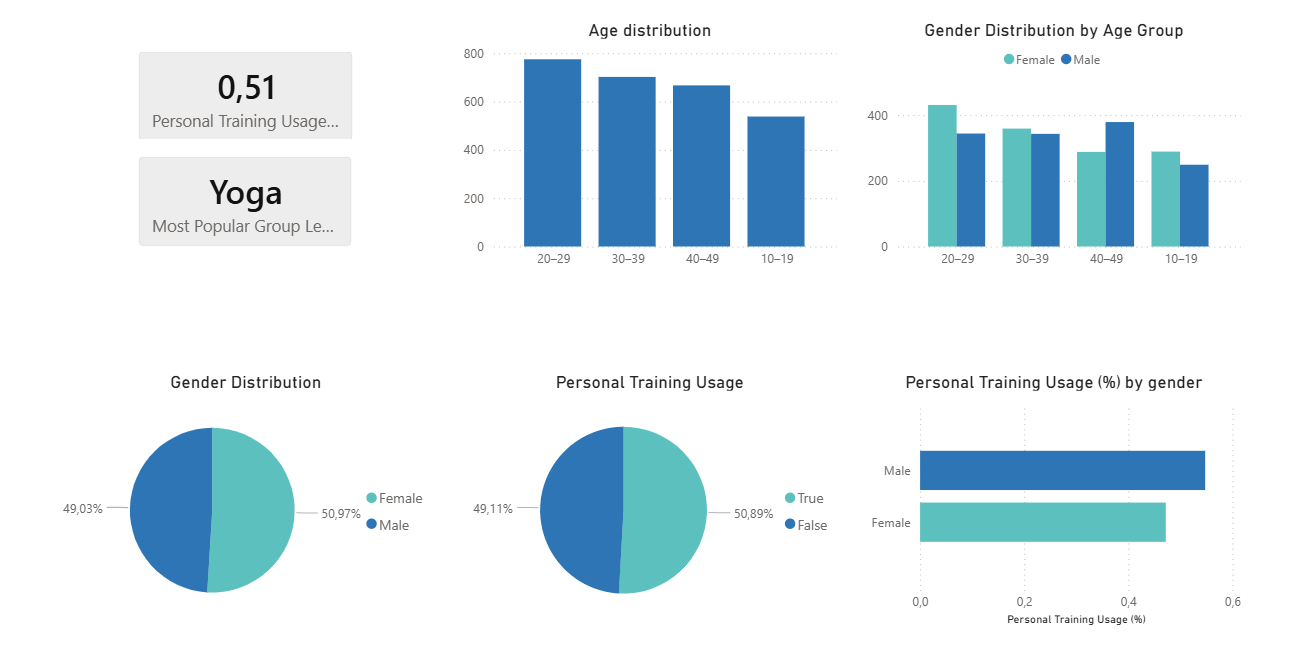

This screenshot's page, from the dashboard's own definition file:
{"tool":"powerbi","page":{"name":"Demographics & Preferences","canvas":[1280,720],"ordinal":1},"visuals":[{"type":"clusteredColumnChart","title":"Age distribution","fields":{"Category":["gym_membership.Age Bin"],"Y":["CountNonNull(gym_membership.Age)"]},"box":[454.9,33.7,370.1,249.6],"z":0},{"type":"pieChart","title":"Gender Distribution","fields":{"Category":["gym_membership.gender"],"Y":["CountNonNull(gym_membership.gender)"]},"box":[65.5,373,370.1,249.6],"z":1000,"group":"g2"},{"type":"clusteredColumnChart","title":"Gender Distribution by Age Group","fields":{"Series":["gym_membership.gender"],"Category":["gym_membership.Age Bin"],"Y":["CountNonNull(gym_membership.Age Bin)"]},"box":[844.3,33.7,370.1,249.6],"z":2000},{"type":"cardVisual","fields":{"Data":["gym_membership.Personal Training Usage (%)"]},"box":[130.1,48.2,241,120.5],"z":3000,"group":"g1"},{"type":"cardVisual","fields":{"Data":["gym_membership.Most Popular Group Lesson"]},"box":[130.1,149.4,240,120.5],"z":4000,"group":"g1"},{"type":"pieChart","title":"Personal Training Usage","fields":{"Category":["gym_membership.personal_training"],"Y":["CountNonNull(gym_membership.id)"]},"box":[454.9,373,370.1,249.6],"z":5000,"group":"g2"},{"type":"clusteredBarChart","fields":{"Y":["gym_membership.Personal Training Usage (%)"],"Category":["gym_membership.gender"]},"box":[844.3,373,370.1,250],"z":6000,"group":"g2"},{"type":"group","id":"g1","title":"Group 1","box":[130.1,48.2,241,221.7],"z":6001},{"type":"group","id":"g2","title":"Group 2","box":[65.5,373,1148.9,250],"z":6002}]}

Visuals, with their boxes on the page's 1280x720 design canvas (x1, y1, x2, y2). These are canvas units, not pixel positions in the 1294x664 screenshot, which may show the page scaled, cropped or inside an application window:
"Age distribution" clusteredColumnChart: (x1=455, y1=34, x2=825, y2=283)
"Gender Distribution" pieChart: (x1=66, y1=373, x2=436, y2=623)
"Gender Distribution by Age Group" clusteredColumnChart: (x1=844, y1=34, x2=1214, y2=283)
cardVisual - gym_membership.Personal Training Usage (%): (x1=130, y1=48, x2=371, y2=169)
cardVisual - gym_membership.Most Popular Group Lesson: (x1=130, y1=149, x2=370, y2=270)
"Personal Training Usage" pieChart: (x1=455, y1=373, x2=825, y2=623)
clusteredBarChart - gym_membership.Personal Training Usage (%) x gym_membership.gender: (x1=844, y1=373, x2=1214, y2=623)
"Group 1" group: (x1=130, y1=48, x2=371, y2=270)
"Group 2" group: (x1=66, y1=373, x2=1214, y2=623)
